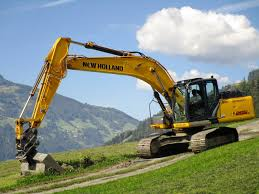excavator: (14, 41, 255, 180)
